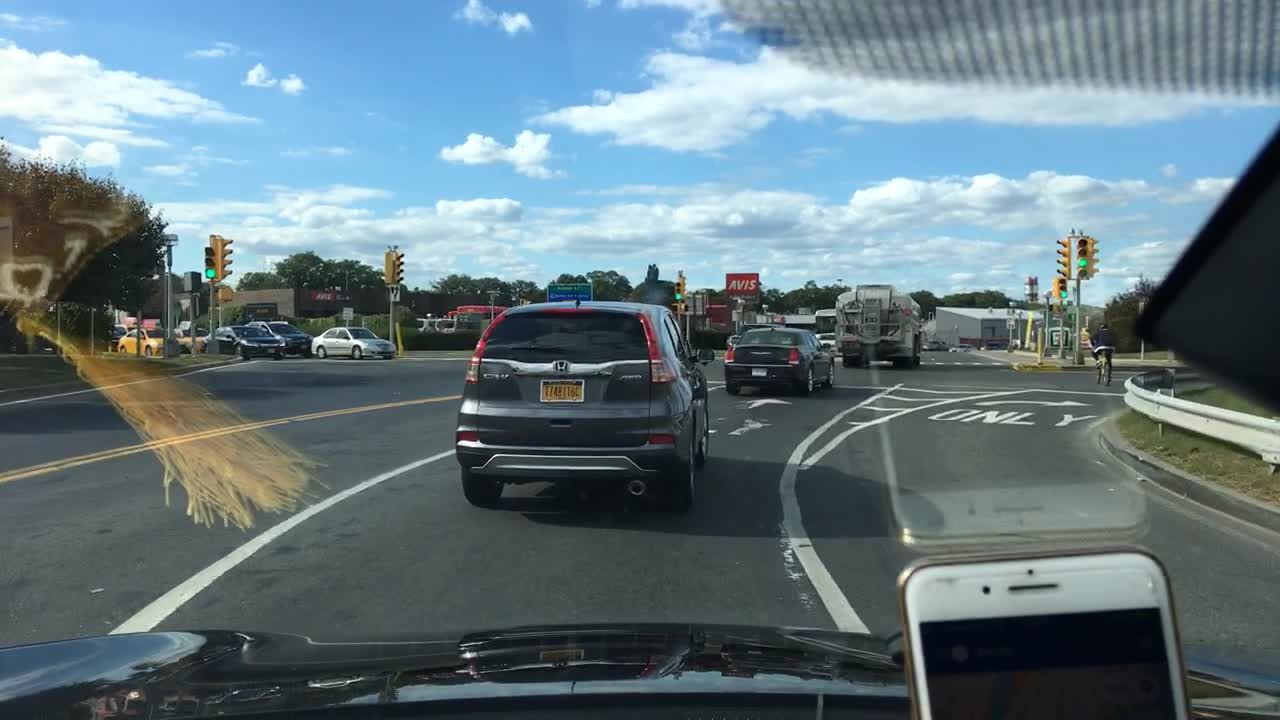bike: (1092, 342, 1120, 391)
bus: (460, 304, 510, 323), (812, 306, 840, 336)
car: (453, 296, 711, 512), (720, 325, 837, 397), (312, 324, 393, 365), (200, 323, 285, 358), (115, 322, 182, 357), (262, 318, 313, 354), (726, 320, 788, 349), (98, 323, 137, 347), (816, 331, 840, 358), (175, 324, 208, 341), (433, 314, 457, 332), (129, 315, 161, 327), (413, 316, 436, 331), (673, 303, 687, 316)
rider: (1089, 321, 1115, 380)
traffic light: (204, 232, 220, 286), (220, 235, 236, 280), (384, 248, 403, 284), (1076, 234, 1090, 279), (1088, 237, 1102, 279), (1056, 239, 1069, 278), (1057, 277, 1070, 301), (676, 278, 685, 301)
traffic sign: (546, 279, 592, 305), (389, 286, 402, 301), (341, 307, 354, 321)
truck: (833, 281, 923, 373)
